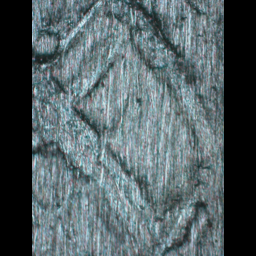d: (34, 0, 206, 253)
